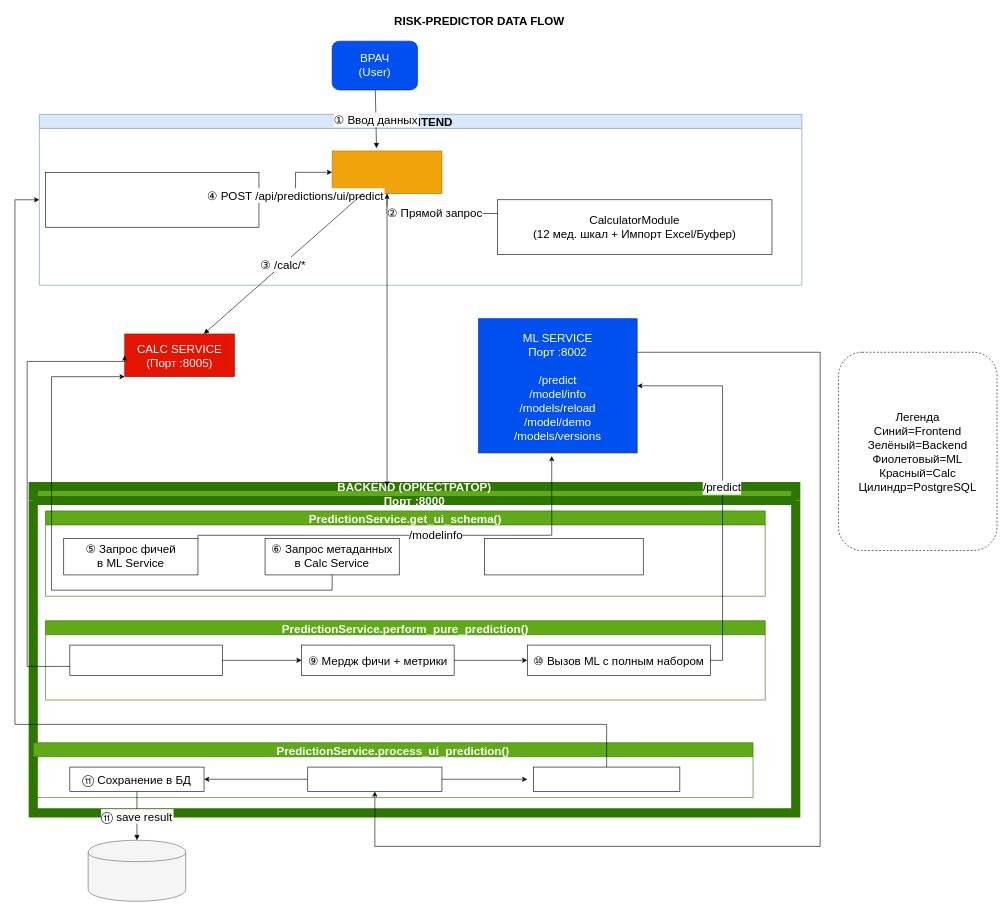
Image size: 1008x912. Some labels were removed from this diagram. Each missing label, with the centre of its shape:
"Nginx (Reverse Proxy)" goes at point 387,172.
"PostgreSQL" goes at point 137,870.
"PredictionModule (Форма ввода + Результаты)" goes at point 152,199.
"⑦ Формирование UI-схемы" goes at point 563,556.
"⑧ Обогащение через Calc Svc" goes at point 145,660.
"⑫ Ответ + targets" goes at point 374,778.
"⑬ Возврат результата" goes at point 606,778.
